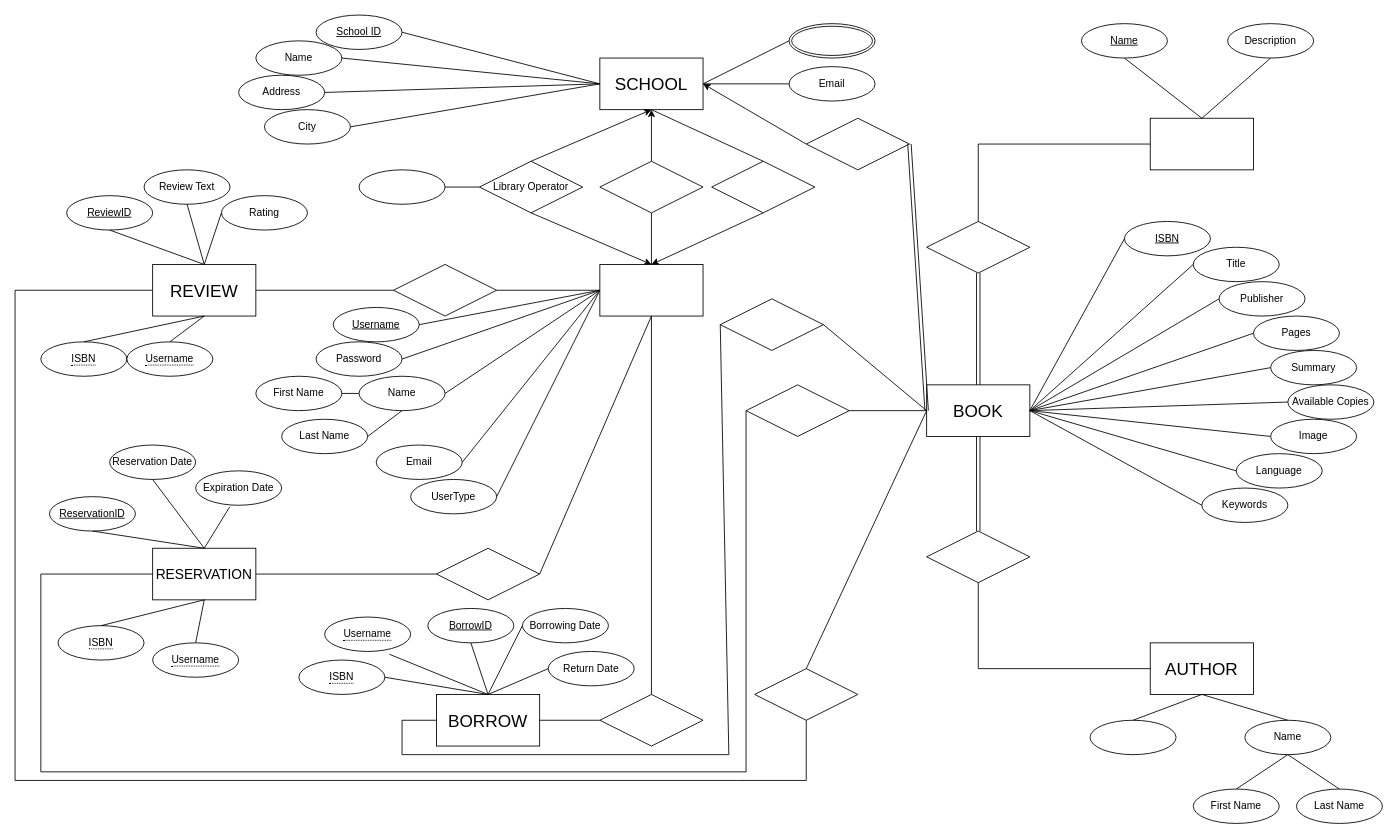
Image size: 1398x839. Some labels were removed from this diagram. Each missing label, with the box of its shape:
AuthorID: (1089, 719, 1176, 755)
Belongs to: (926, 221, 1030, 273)
Belongs To Library: (805, 117, 909, 170)
Borrowed: (719, 298, 823, 350)
Borrows: (599, 694, 703, 746)
CATEGORY: (1149, 117, 1253, 170)
General Manager: (711, 160, 815, 213)
Operator's Name: (358, 169, 445, 204)
Phone: (788, 23, 875, 58)
Reserved: (745, 384, 849, 436)
Reserves: (436, 547, 540, 600)
Reviewed: (754, 668, 858, 720)
Reviews: (393, 264, 497, 316)
Student-Teacher: (599, 160, 703, 213)
USER: (599, 264, 703, 316)
Written By: (926, 530, 1030, 583)
